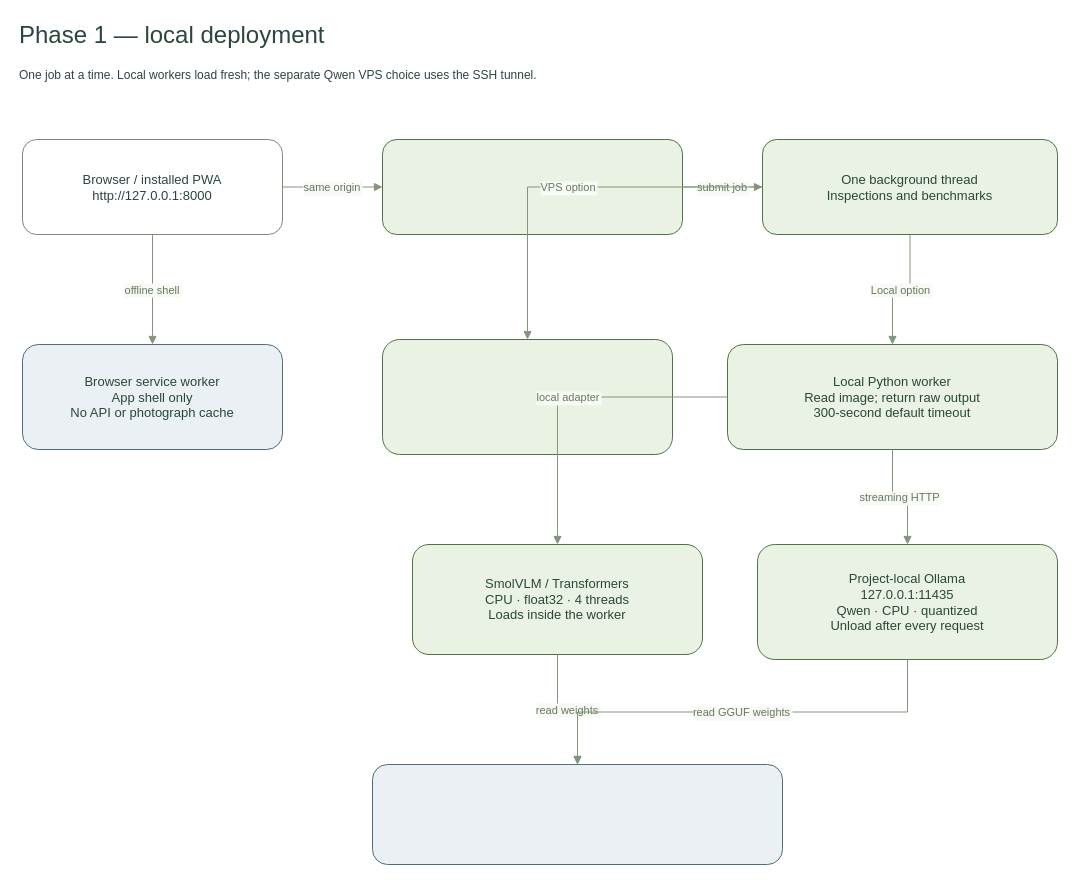
The diagram is 1084 pixels wide and 882 high, and some of its shapes have lost their labels. Here are the shapes that lost their labels. From the top down, the centre of each, then its label:
the point at 532,186: Python API server frontend/dist and /api
the point at 527,396: Qwen 4B · VPS option Image API through SSH 127.0.0.1:18084 No local fallback
the point at 577,814: Project disk models/ · data/ · benchmarks/results/ No downloads during inference
